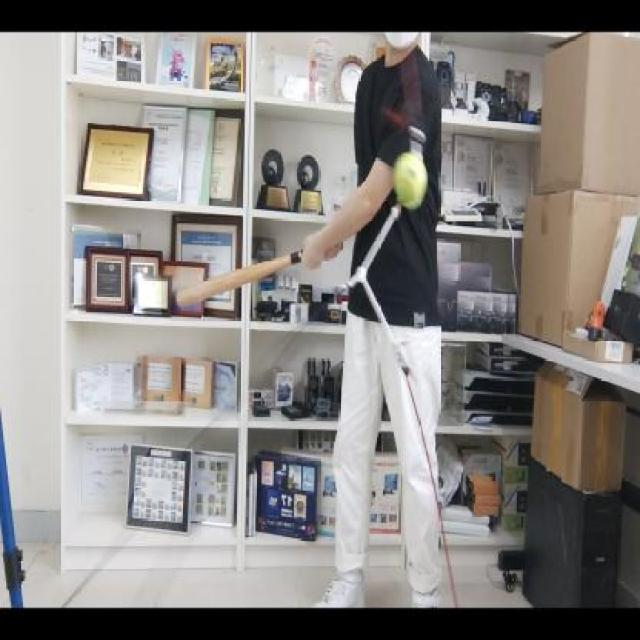baseball: (392, 150, 432, 212)
